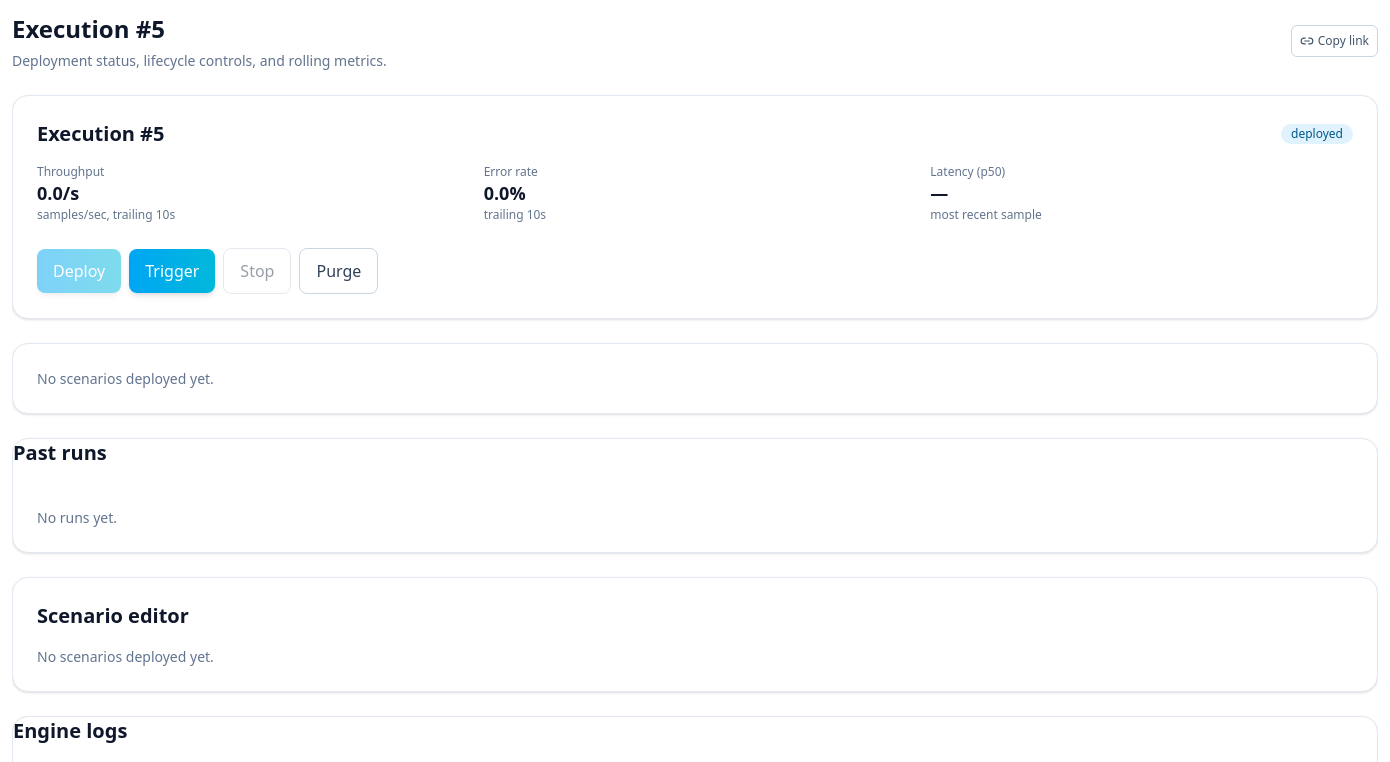
Test: Execution action-error details (mounted) › message-only failures keep the single alert line (no details node)
The width and height of the screenshot is (1390, 762).
Click the button "Trigger" at {"x": 172, "y": 271}, box [129,249,215,293]
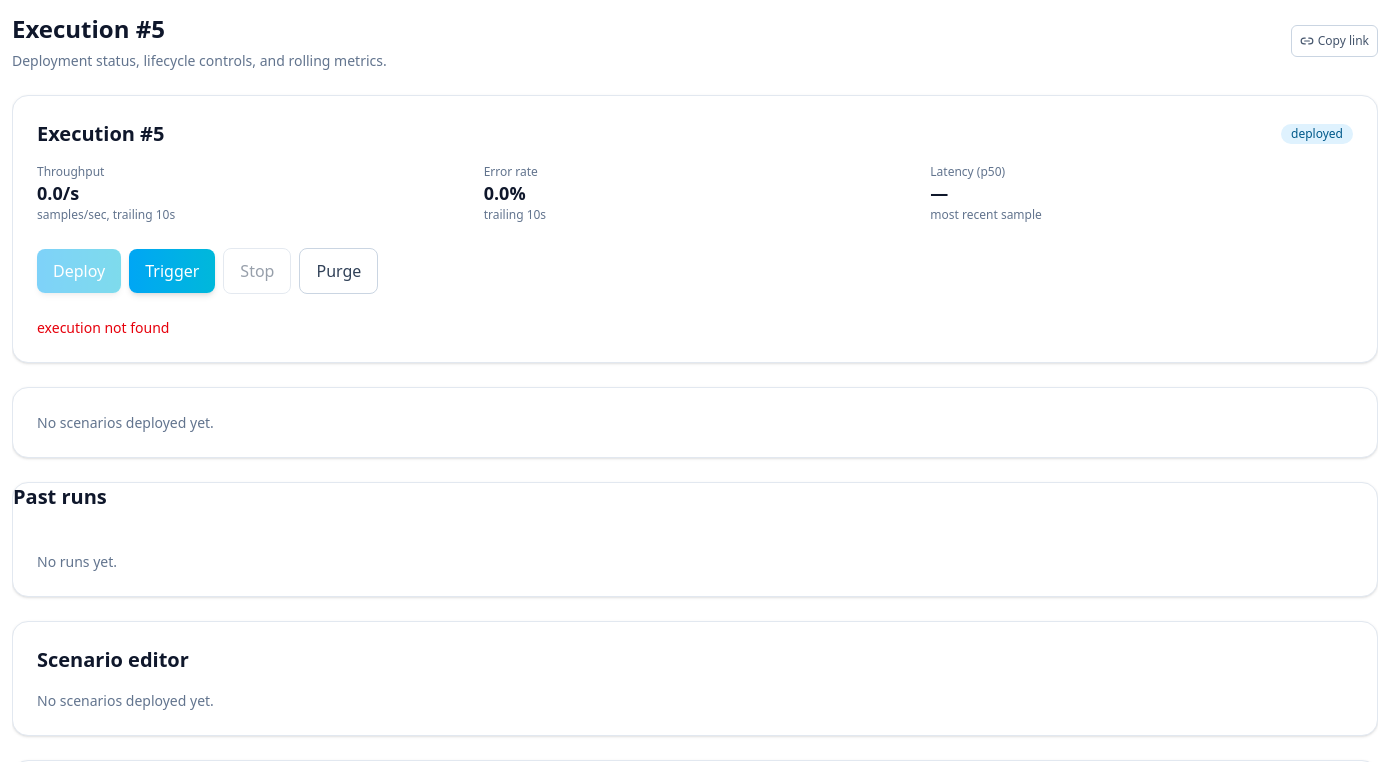
expect the message "execution not found" is shown: met, box [37,318,170,337]
